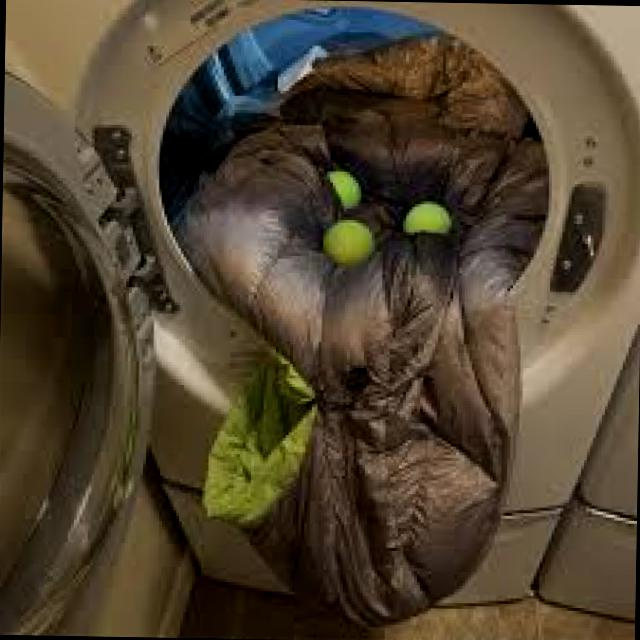Tennis Ball: (319, 219, 374, 264), (400, 200, 452, 237), (320, 167, 360, 208)
